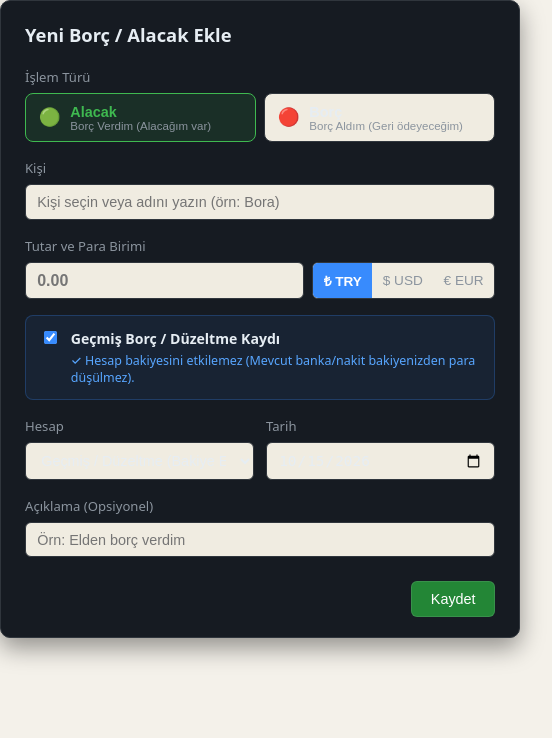
Test: BorcFormu › tutar geçersiz veya 0 ise uyarı verir
Type "Bora" into the field labelled "Kişi". click: x=260, y=202
box: [25,184,495,220]
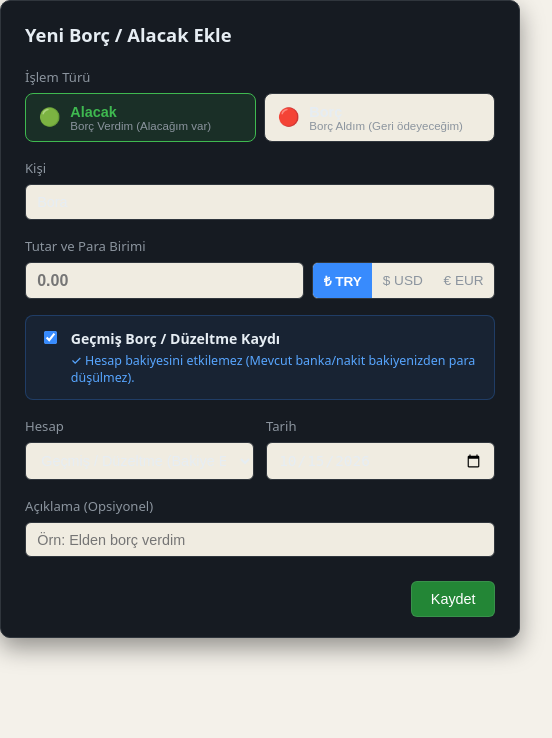
Type "0" into the number field named "Tutar". click: x=165, y=280
box: [25,262,304,299]
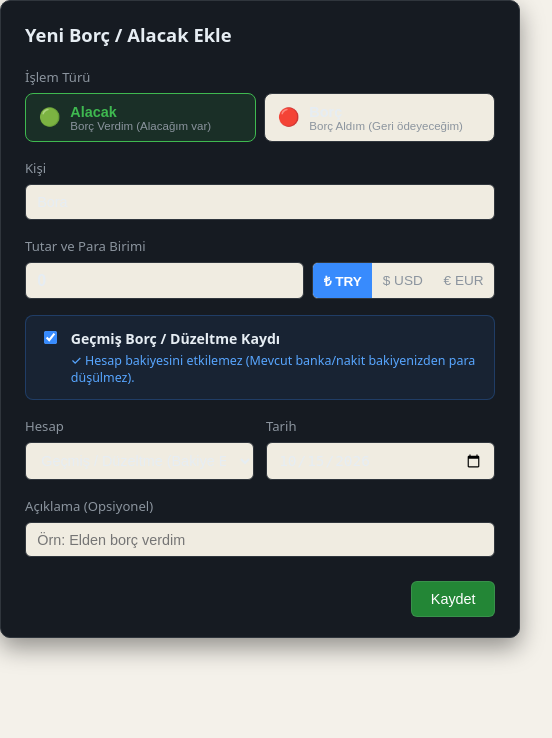
Click the button "Kaydet". click: x=453, y=599
box: [411,581,495,617]
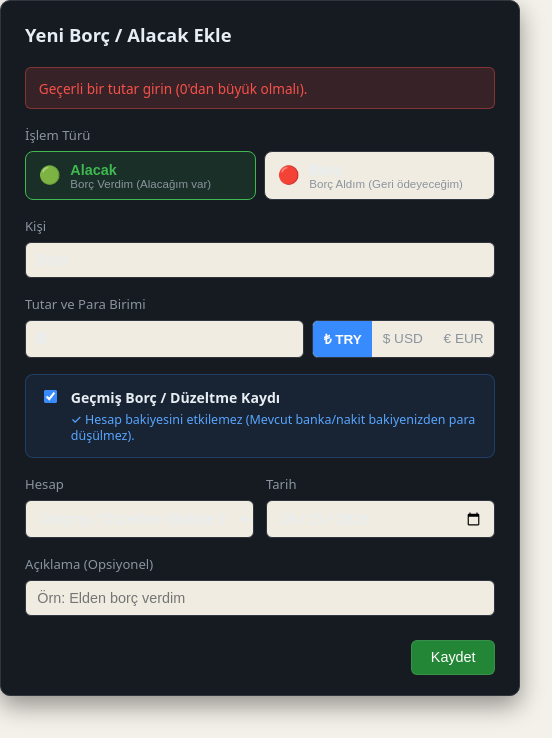
expect the text "Geçerli bir tutar girin (0'dan büyük olmalı)." is shown: met, box [25,67,495,109]
